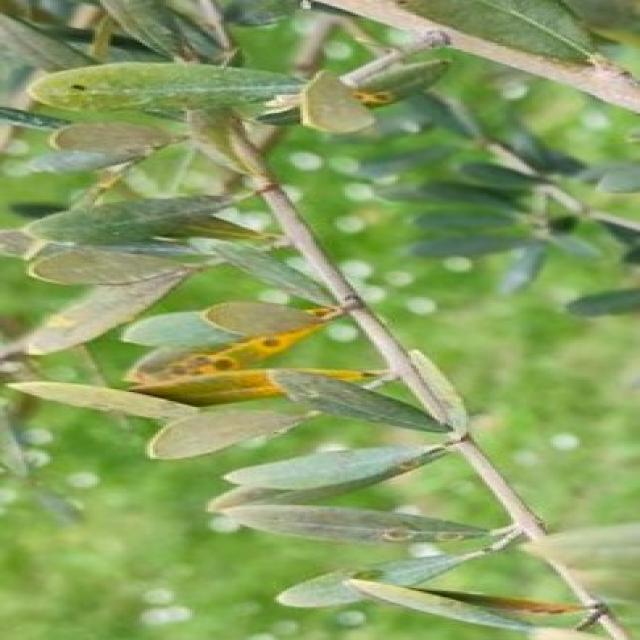OlivePeacockSpot: (120, 326, 328, 382)
